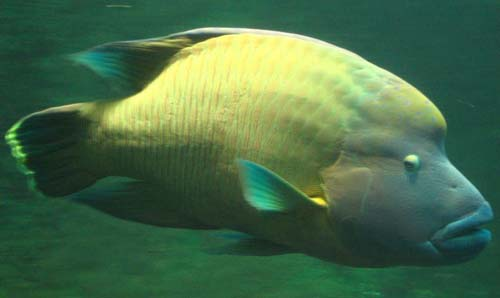fish: (7, 26, 491, 265)
